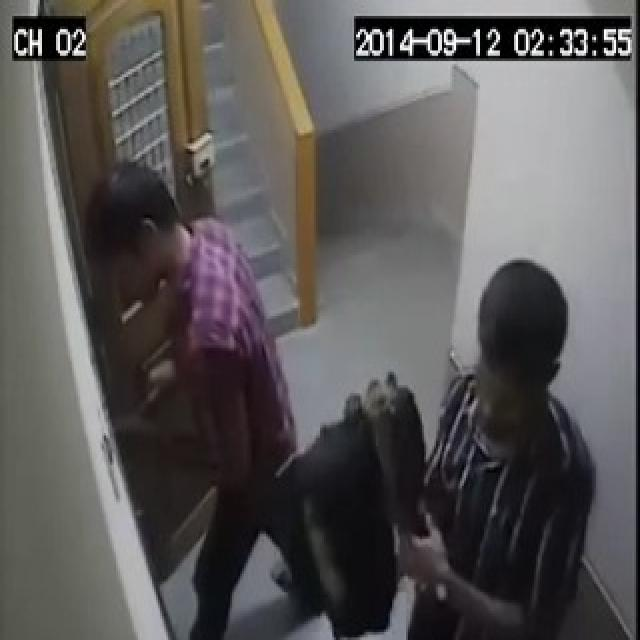burglary: (50, 222, 252, 529)
